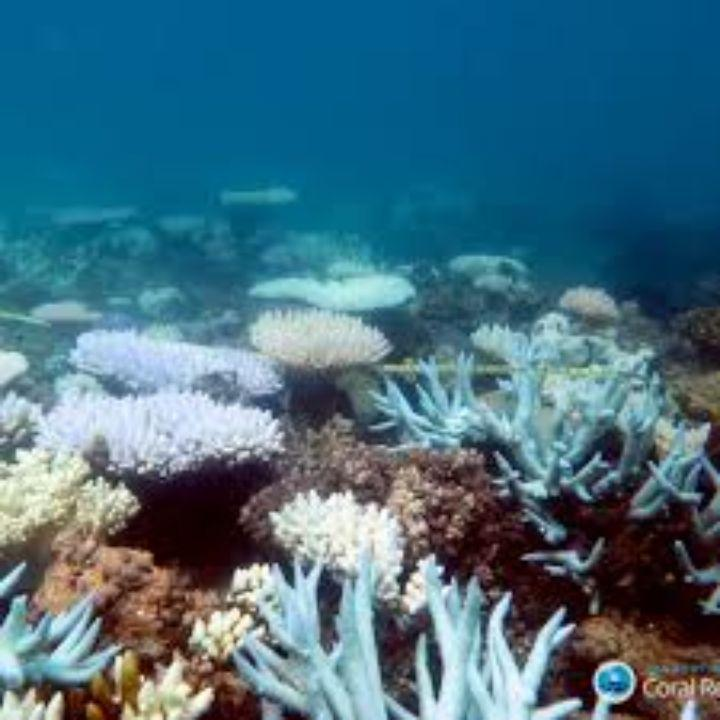Bleached disease: (33, 297, 687, 589)
